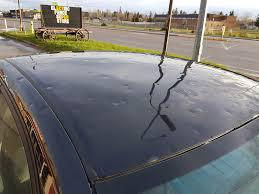roof-dent: (103, 45, 225, 164), (5, 52, 136, 151)
